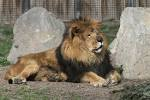lion: (15, 20, 126, 90)
